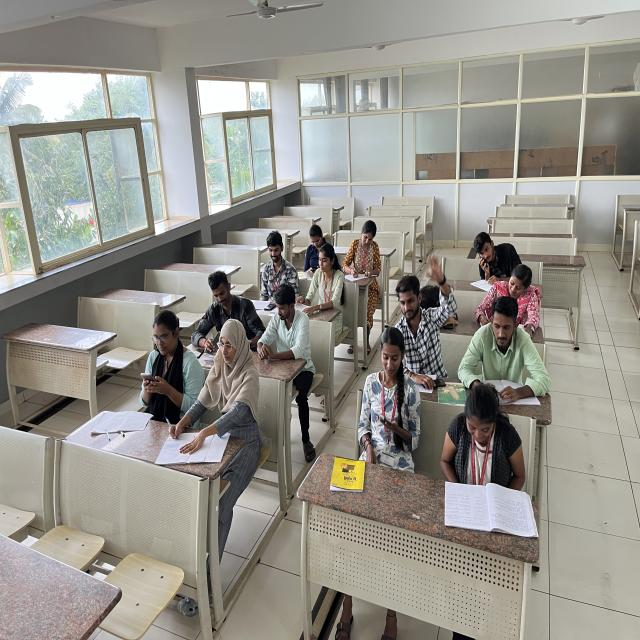Hand Rising: (390, 252, 456, 359)
Reading: (442, 384, 537, 510), (457, 296, 554, 397), (296, 244, 348, 318), (340, 218, 389, 284), (255, 230, 298, 304)
Using Phone: (356, 328, 426, 454), (140, 308, 203, 408), (192, 268, 256, 350), (470, 226, 520, 282), (302, 222, 325, 278)
Writing: (160, 327, 256, 462), (475, 262, 536, 330)
